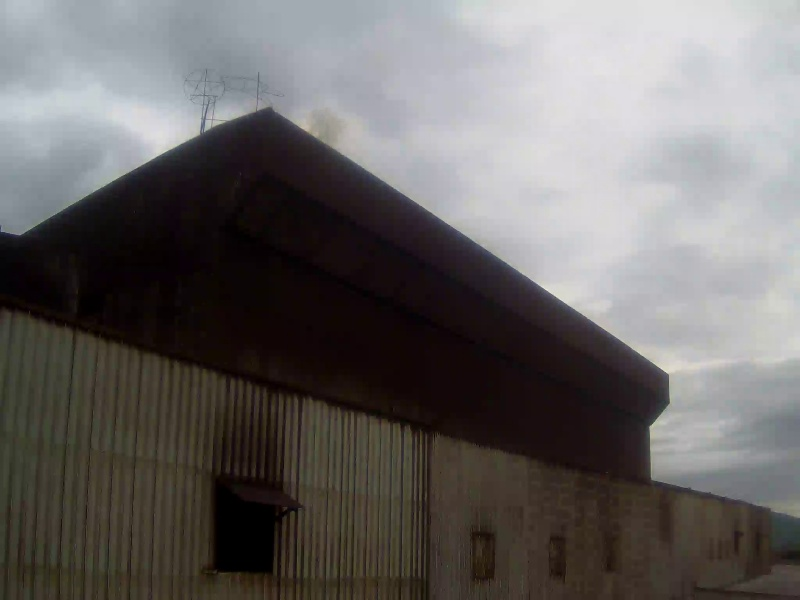bom: (252, 68, 703, 445), (2, 24, 277, 172), (607, 296, 758, 448)
